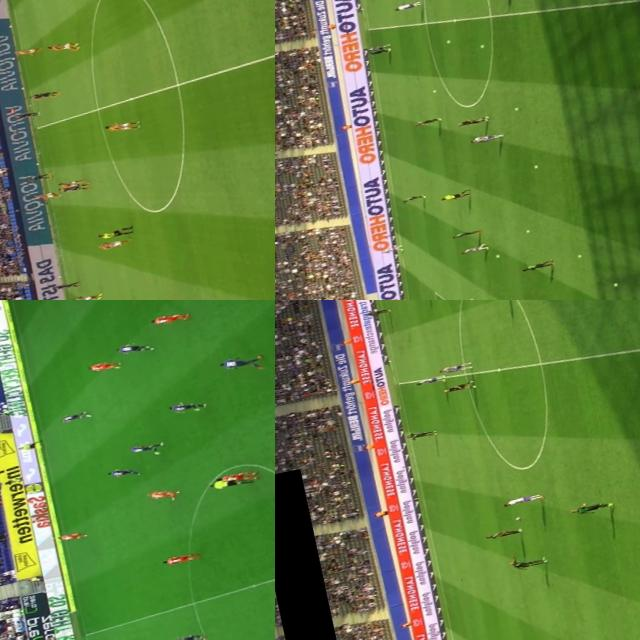ball: (509, 512, 526, 522), (510, 105, 522, 112), (608, 280, 620, 286), (442, 38, 452, 44), (532, 163, 542, 169), (576, 252, 586, 258), (491, 252, 501, 258), (522, 228, 531, 234), (479, 43, 486, 48), (430, 87, 437, 92), (468, 297, 475, 300)
player: (214, 462, 264, 487), (214, 350, 266, 374), (566, 496, 613, 515), (165, 395, 209, 415), (506, 552, 550, 571), (102, 116, 142, 136), (158, 550, 202, 568), (502, 489, 542, 508), (146, 310, 188, 328), (113, 338, 152, 356), (128, 439, 166, 457), (146, 484, 178, 505), (106, 462, 140, 480), (436, 360, 474, 376), (483, 526, 523, 540), (46, 38, 80, 54), (98, 235, 134, 250), (56, 180, 92, 194), (87, 357, 118, 373), (24, 168, 54, 184), (458, 114, 492, 128), (28, 87, 61, 101), (12, 44, 45, 58), (168, 629, 209, 640), (412, 372, 444, 386), (450, 225, 481, 239), (56, 528, 87, 542), (58, 408, 89, 422), (411, 114, 444, 127), (470, 130, 503, 143), (51, 278, 81, 292), (68, 289, 105, 300), (56, 176, 85, 190), (389, 0, 422, 12), (520, 258, 552, 270), (406, 428, 437, 440), (14, 107, 41, 120), (32, 188, 61, 200), (365, 304, 392, 316), (367, 44, 392, 56), (459, 243, 486, 254), (402, 192, 426, 202), (364, 42, 390, 51), (380, 244, 403, 254)
